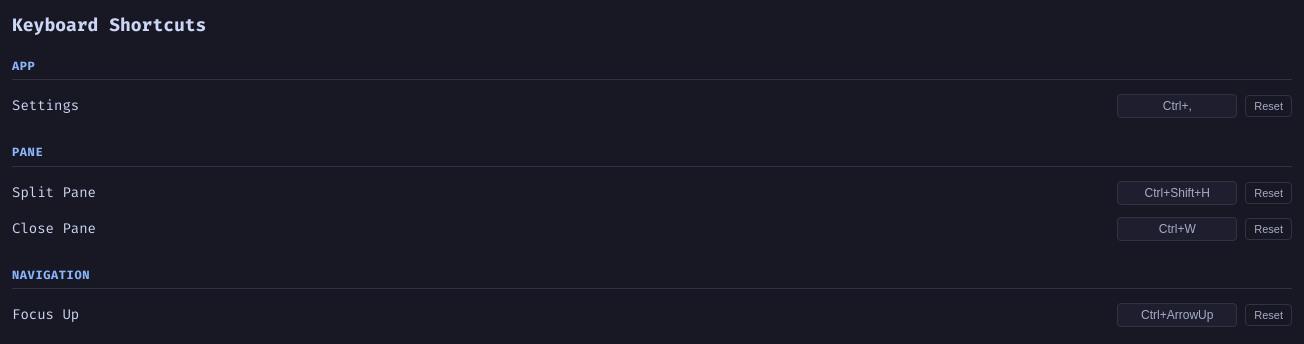
Scenario: KeybindingEditor › enters recording mode when clicking a keybinding
// Click the keybinding display for "Split Pane" (Ctrl+Shift+H)
Click the button "Ctrl+Shift+H" at (1177, 193), box x1=1117 y1=181 x2=1237 y2=205
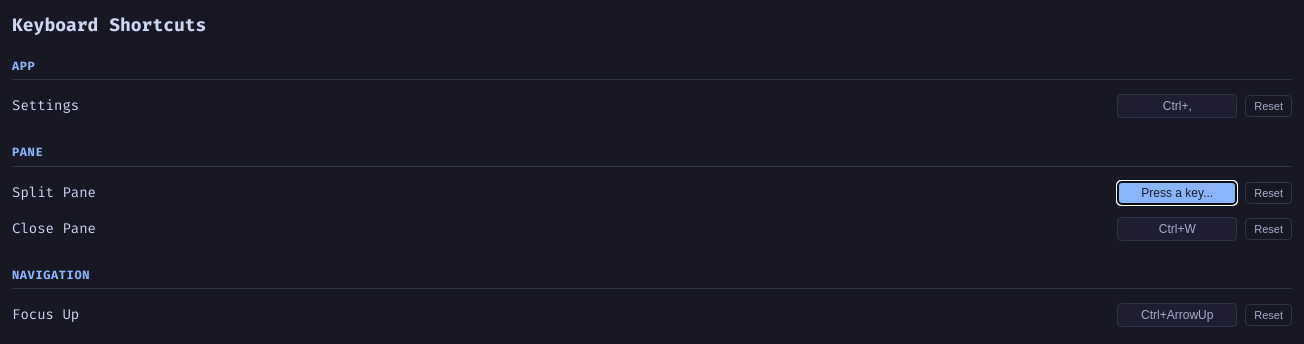
Expected: the button "Press a key..." is shown, x1=1117 y1=181 x2=1237 y2=205
